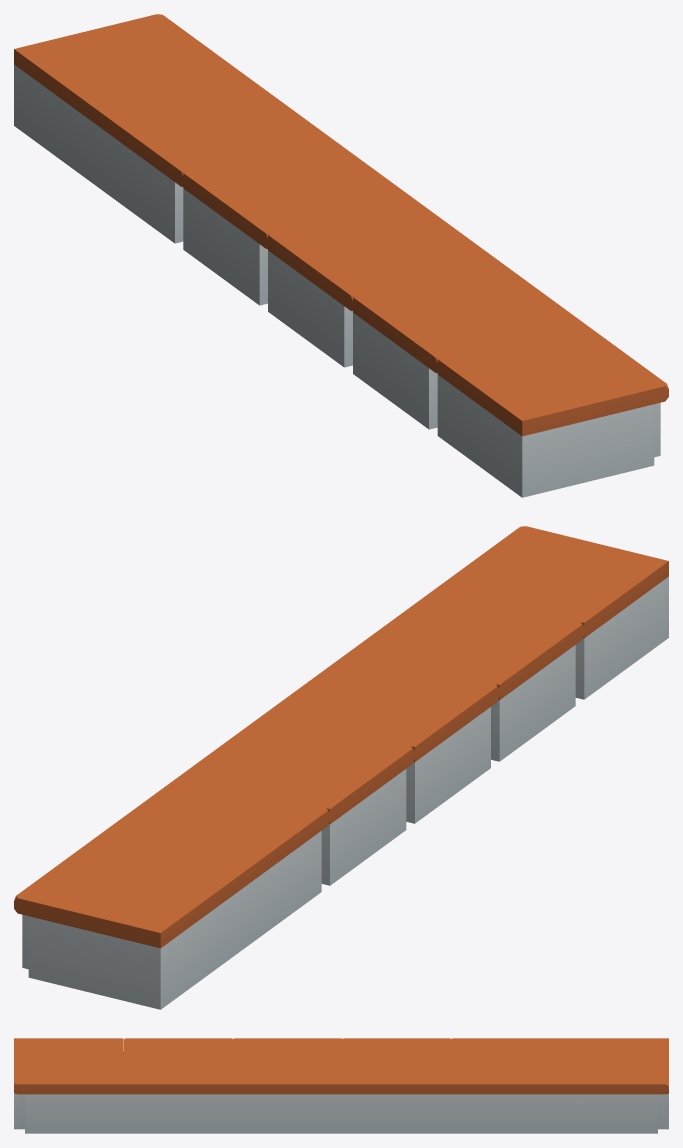
File: TEZGAHHH.fbx
The picture shows the model from 3 angles, top to bottom: view 1: azimuth 30°, elevation 25°; view 2: azimuth 150°, elevation 25°; view 3: azimuth 270°, elevation 25°; orthographic projection. The views are drawn at different scales.
Visible parts, largest first — view 1: tezgah.005, tezgah.003, tezgah.004, tezgah.002, tezgah.001, tezgah; view 2: tezgah.004, tezgah.005, tezgah.002, tezgah, tezgah.001, tezgah.003; view 3: tezgah, tezgah.001, tezgah.002, tezgah.003, tezgah.005, tezgah.004.
Part boxes in pixels (x1,y1,x2,y2): tezgah.005: (437,323,668,497); tezgah.003: (98,75,329,243); tezgah.004: (14,14,244,187); tezgah.002: (183,137,414,305); tezgah.001: (268,199,498,367); tezgah: (353,261,583,429); tezgah.004: (14,835,245,1009); tezgah.005: (438,526,668,699); tezgah.002: (184,711,414,885); tezgah: (353,587,584,761); tezgah.001: (268,649,499,823); tezgah.003: (99,773,329,947); tezgah: (123,1038,232,1133); tezgah.001: (232,1038,341,1133); tezgah.002: (341,1038,450,1133); tezgah.003: (450,1038,559,1133); tezgah.005: (14,1038,123,1133); tezgah.004: (559,1038,668,1133).
Bounding box in the file's own units: 200 × 100 × 1200.
Materials: 1 (1 with a texture image).
